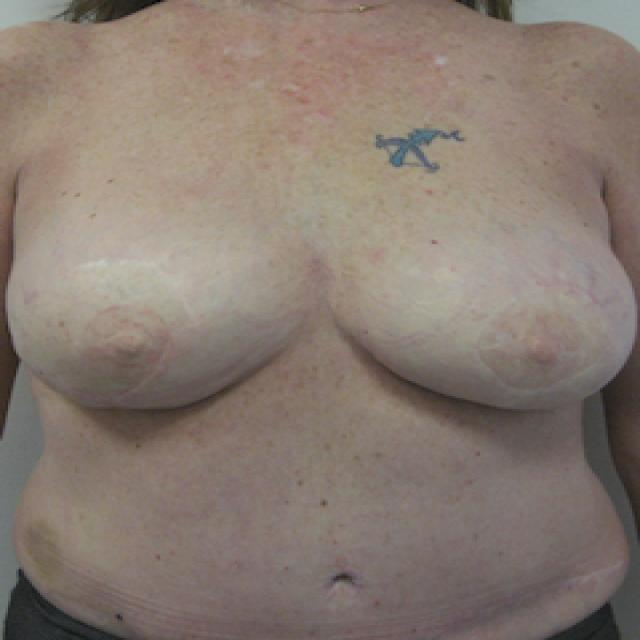Seno ileso: (1, 191, 316, 430), (323, 194, 640, 431)
